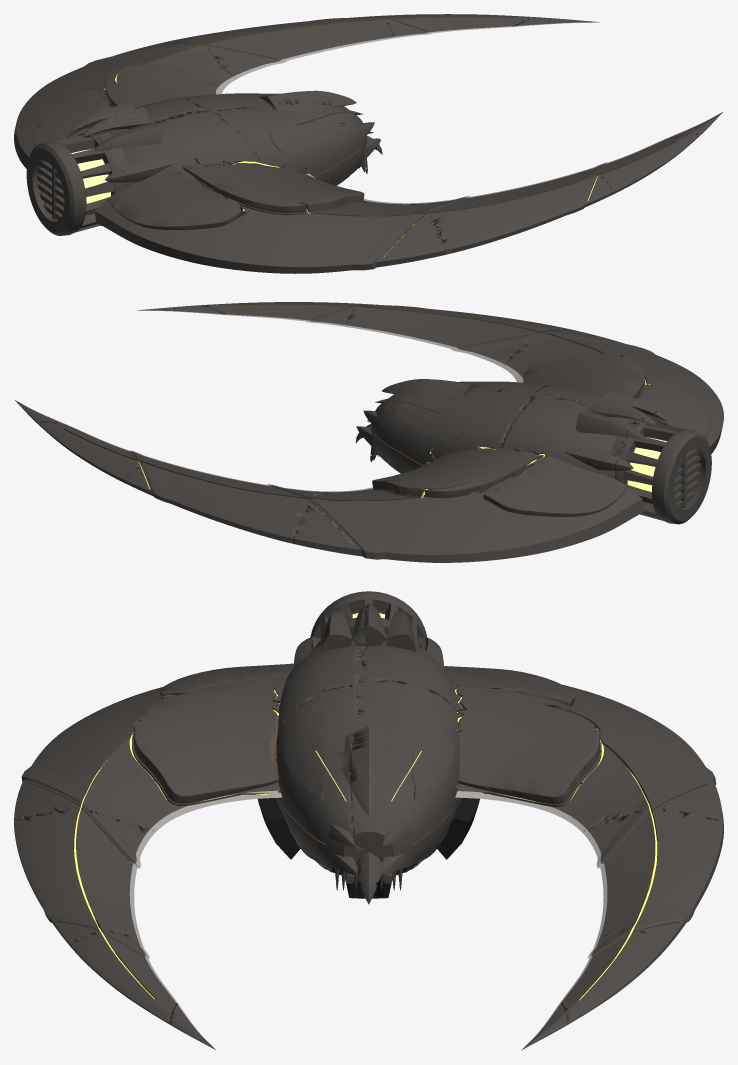
File: reaper_debris.fbx
The picture shows the model from 3 angles, top to bottom: view 1: azimuth 30°, elevation 25°; view 2: azimuth 150°, elevation 25°; view 3: azimuth 270°, elevation 25°; orthographic projection. The views are drawn at different scales.
Visible parts, largest first — view 1: Debris_11, Debris_08, Debris_02, Debris_12, Debris_04, Debris_01, Debris_09, Debris_13, Debris_05, Debris_10, Debris_07; view 2: Debris_08, Debris_11, Debris_05, Debris_09, Debris_01, Debris_07, Debris_12, Debris_10, Debris_13, Debris_04, Debris_02; view 3: Debris_11, Debris_08, Debris_05, Debris_02, Debris_09, Debris_12, Debris_04, Debris_07, Debris_10, Debris_13, Debris_01.
Part boxes in pixels (bbox=[...]): Debris_11: bbox=[94, 112, 722, 273]; Debris_08: bbox=[14, 17, 599, 168]; Debris_02: bbox=[211, 103, 380, 185]; Debris_12: bbox=[406, 173, 615, 254]; Debris_04: bbox=[92, 110, 259, 188]; Debris_01: bbox=[26, 121, 125, 235]; Debris_09: bbox=[165, 16, 393, 78]; Debris_13: bbox=[576, 133, 700, 192]; Debris_05: bbox=[178, 90, 382, 154]; Debris_10: bbox=[378, 14, 535, 38]; Debris_07: bbox=[71, 98, 210, 136]; Debris_08: bbox=[15, 400, 644, 562]; Debris_11: bbox=[137, 305, 723, 453]; Debris_05: bbox=[355, 379, 535, 473]; Debris_09: bbox=[121, 460, 331, 543]; Debris_01: bbox=[614, 409, 711, 524]; Debris_07: bbox=[502, 392, 645, 478]; Debris_12: bbox=[345, 303, 571, 367]; Debris_10: bbox=[37, 421, 160, 481]; Debris_13: bbox=[201, 302, 360, 326]; Debris_04: bbox=[536, 384, 666, 425]; Debris_02: bbox=[367, 381, 546, 421]; Debris_11: bbox=[14, 663, 293, 1049]; Debris_08: bbox=[444, 666, 723, 1050]; Debris_05: bbox=[349, 680, 479, 904]; Debris_02: bbox=[257, 684, 372, 898]; Debris_09: bbox=[581, 807, 723, 946]; Debris_12: bbox=[14, 808, 157, 946]; Debris_04: bbox=[276, 603, 368, 736]; Debris_07: bbox=[358, 604, 457, 710]; Debris_10: bbox=[560, 929, 667, 1023]; Debris_13: bbox=[70, 930, 176, 1023]; Debris_01: bbox=[301, 591, 435, 649].
Bounding box in the file's own units: 14.02 × 3.14 × 11.22.
